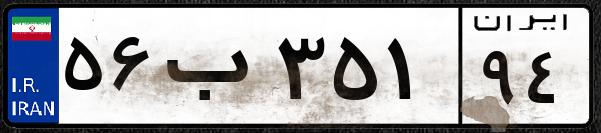1: (385, 28, 445, 110)
3: (270, 28, 330, 110)
4: (525, 38, 570, 115)
5: (330, 28, 385, 110), (57, 26, 110, 100)
6: (110, 28, 158, 98)
9: (475, 38, 525, 113)
ب: (158, 20, 270, 120)
